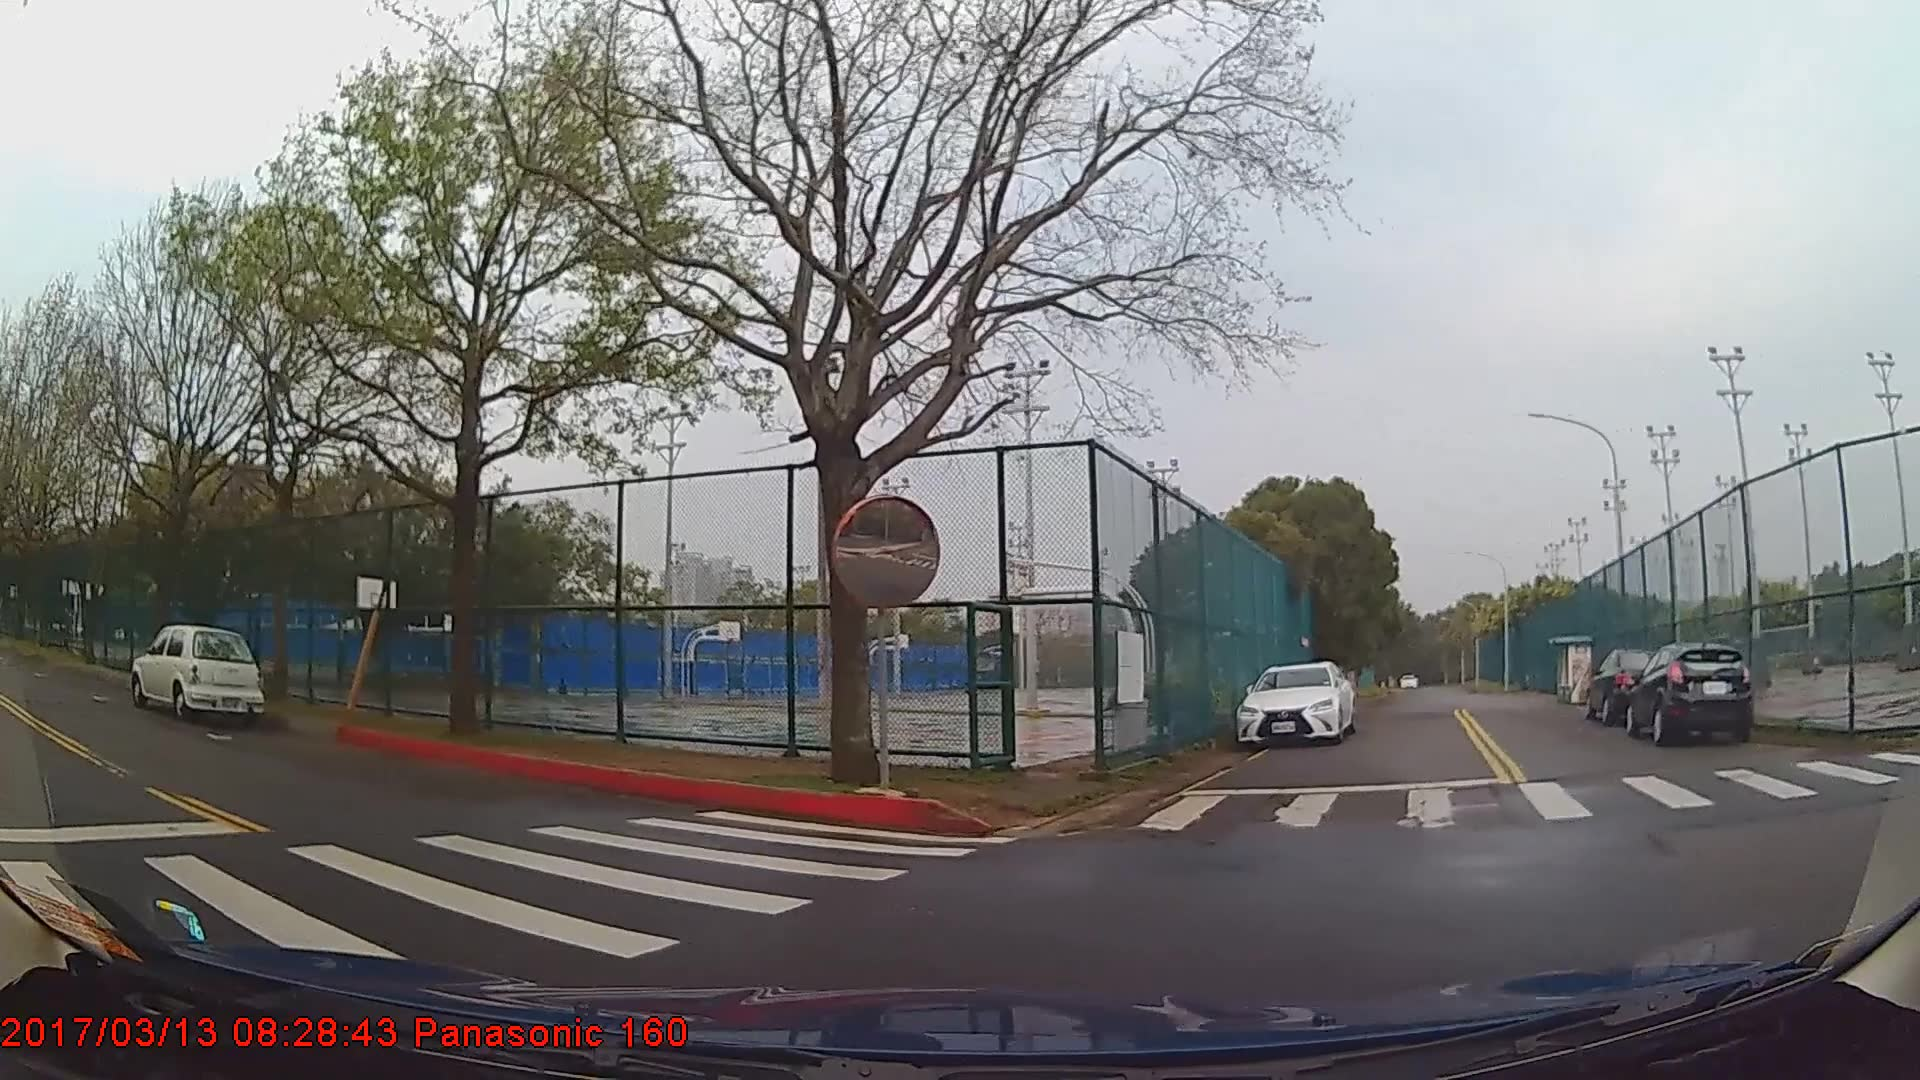vehicle: (127, 622, 269, 720), (1625, 649, 1753, 752), (1236, 661, 1356, 749), (1582, 646, 1677, 724)
